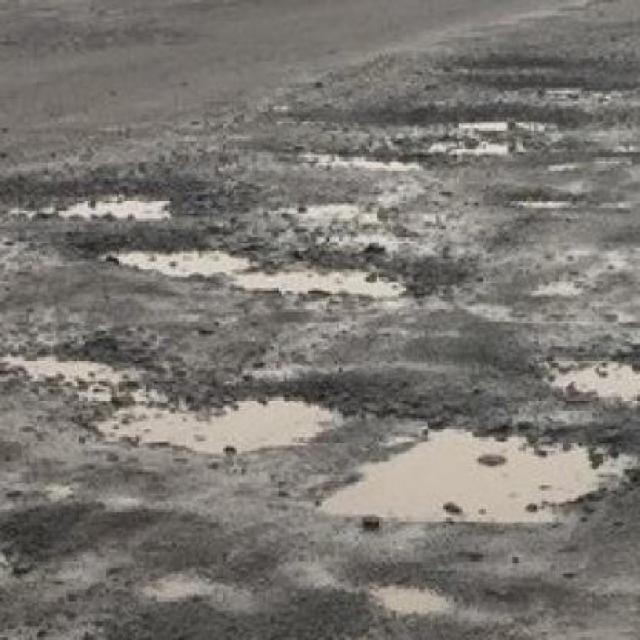pothole: (2, 338, 353, 457), (305, 415, 640, 526), (77, 230, 465, 298), (2, 168, 192, 222), (542, 346, 640, 400)
